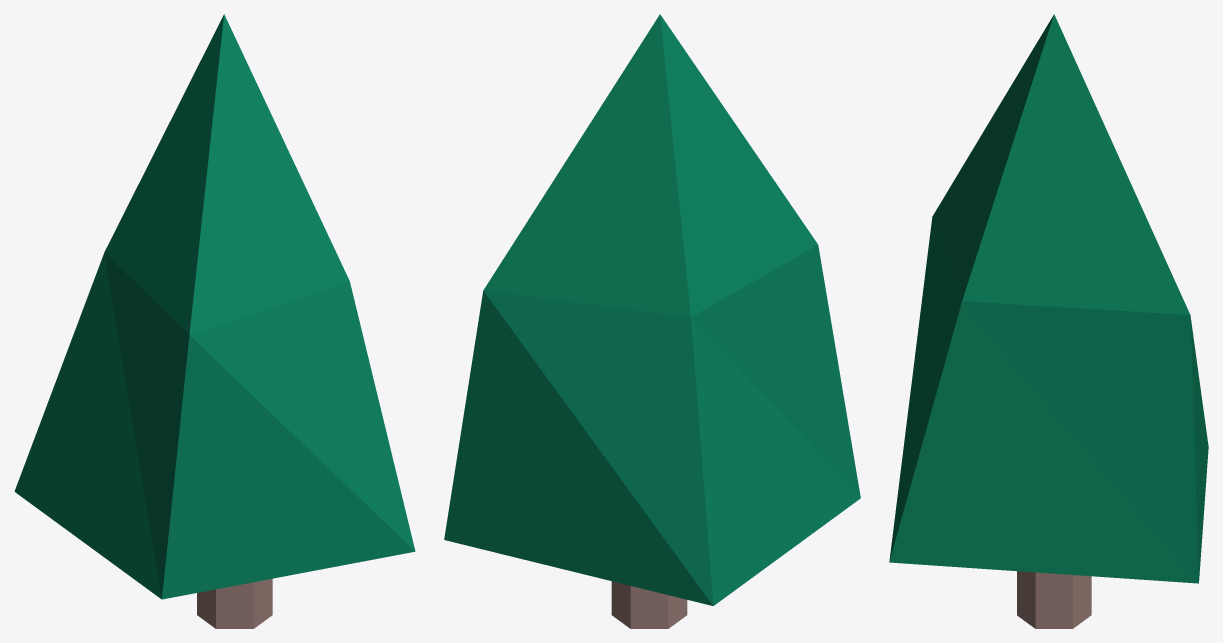
The model's file is world_1_brush_2.dae.
3 renders of one model, left to right at view 1: azimuth 30°, elevation 25°; view 2: azimuth 150°, elevation 25°; view 3: azimuth 270°, elevation 25°, orthographic.
Parts seen in each view (by area): view 1: world_1_brush_2_leaves, world_1_brush_2_base; view 2: world_1_brush_2_leaves, world_1_brush_2_base; view 3: world_1_brush_2_leaves, world_1_brush_2_base.
Part boxes in pixels (x1,y1,x2,y2): world_1_brush_2_leaves: (14, 14, 415, 599); world_1_brush_2_base: (197, 578, 272, 628); world_1_brush_2_leaves: (444, 14, 860, 605); world_1_brush_2_base: (611, 581, 687, 628); world_1_brush_2_leaves: (889, 14, 1208, 583); world_1_brush_2_base: (1017, 571, 1091, 628).
Bounding box in the file's own units: 0.5088 × 0.5195 × 1.07.
